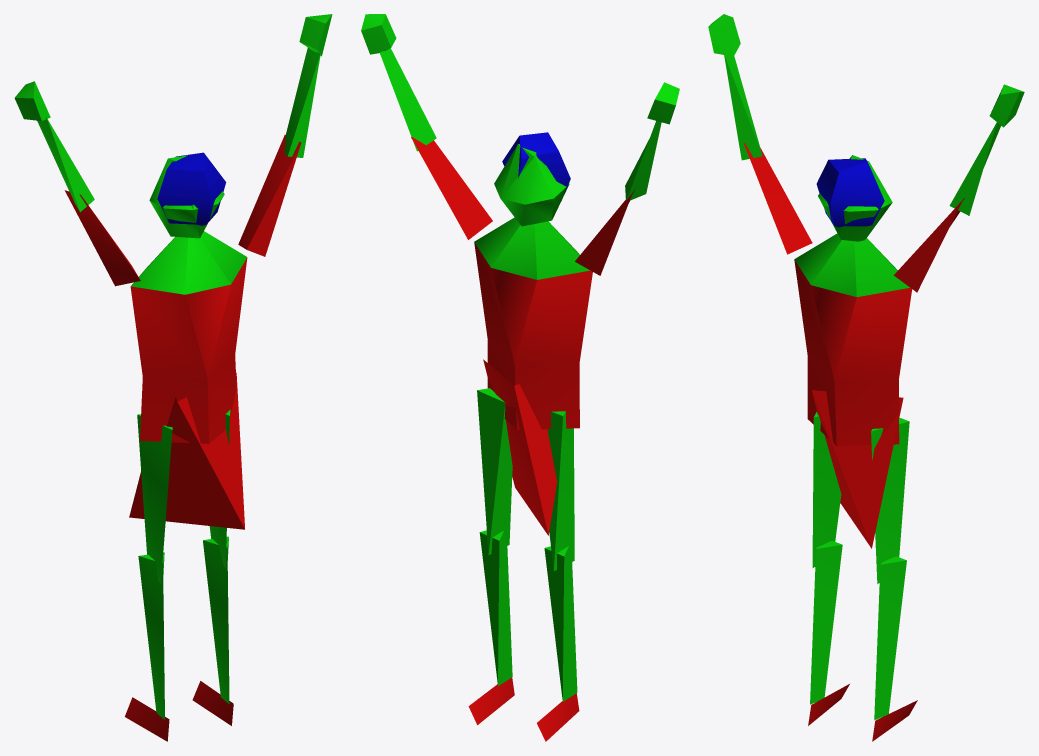
The model's file is stand_cheer_both_arms_lod2.glb.
3 views of the same model, side by side, from view 1: azimuth 30°, elevation 25°; view 2: azimuth 150°, elevation 25°; view 3: azimuth 330°, elevation 25° (orthographic).
Parts seen in each view (by area): view 1: OUT_2; view 2: OUT_2; view 3: OUT_2.
Boxes of the visible parts, left/top/right/bottom form: OUT_2: left=14, top=14, right=332, bottom=741; OUT_2: left=361, top=14, right=679, bottom=741; OUT_2: left=708, top=14, right=1024, bottom=741.
Size of the model in its own units: 0.9728 by 1.99 by 0.2659.
